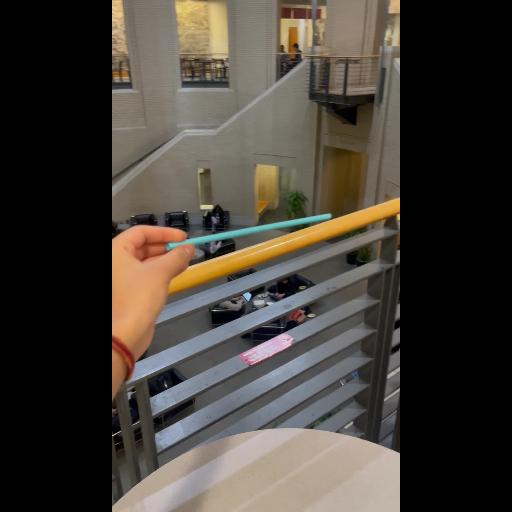straw: (132, 184, 350, 256)
